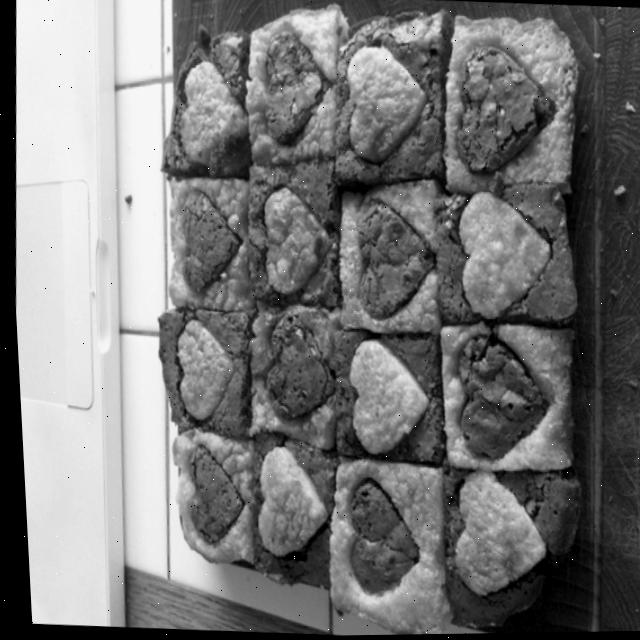蛋糕甜品: (83, 0, 640, 639)
